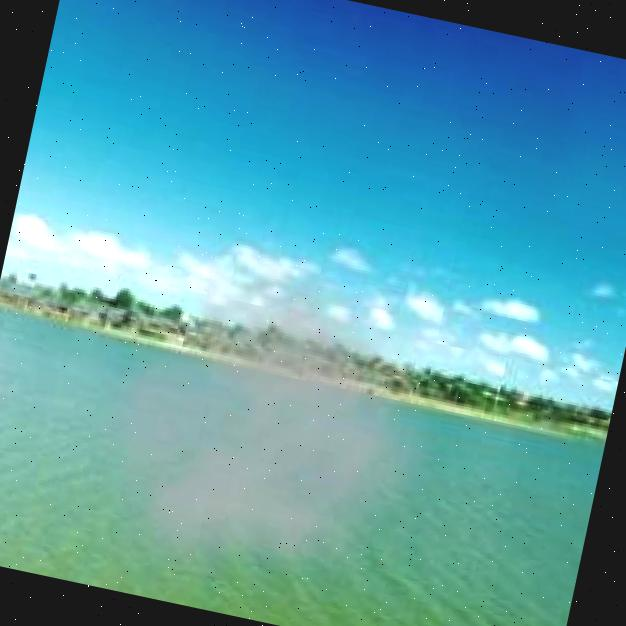smoke: (53, 203, 483, 619)
